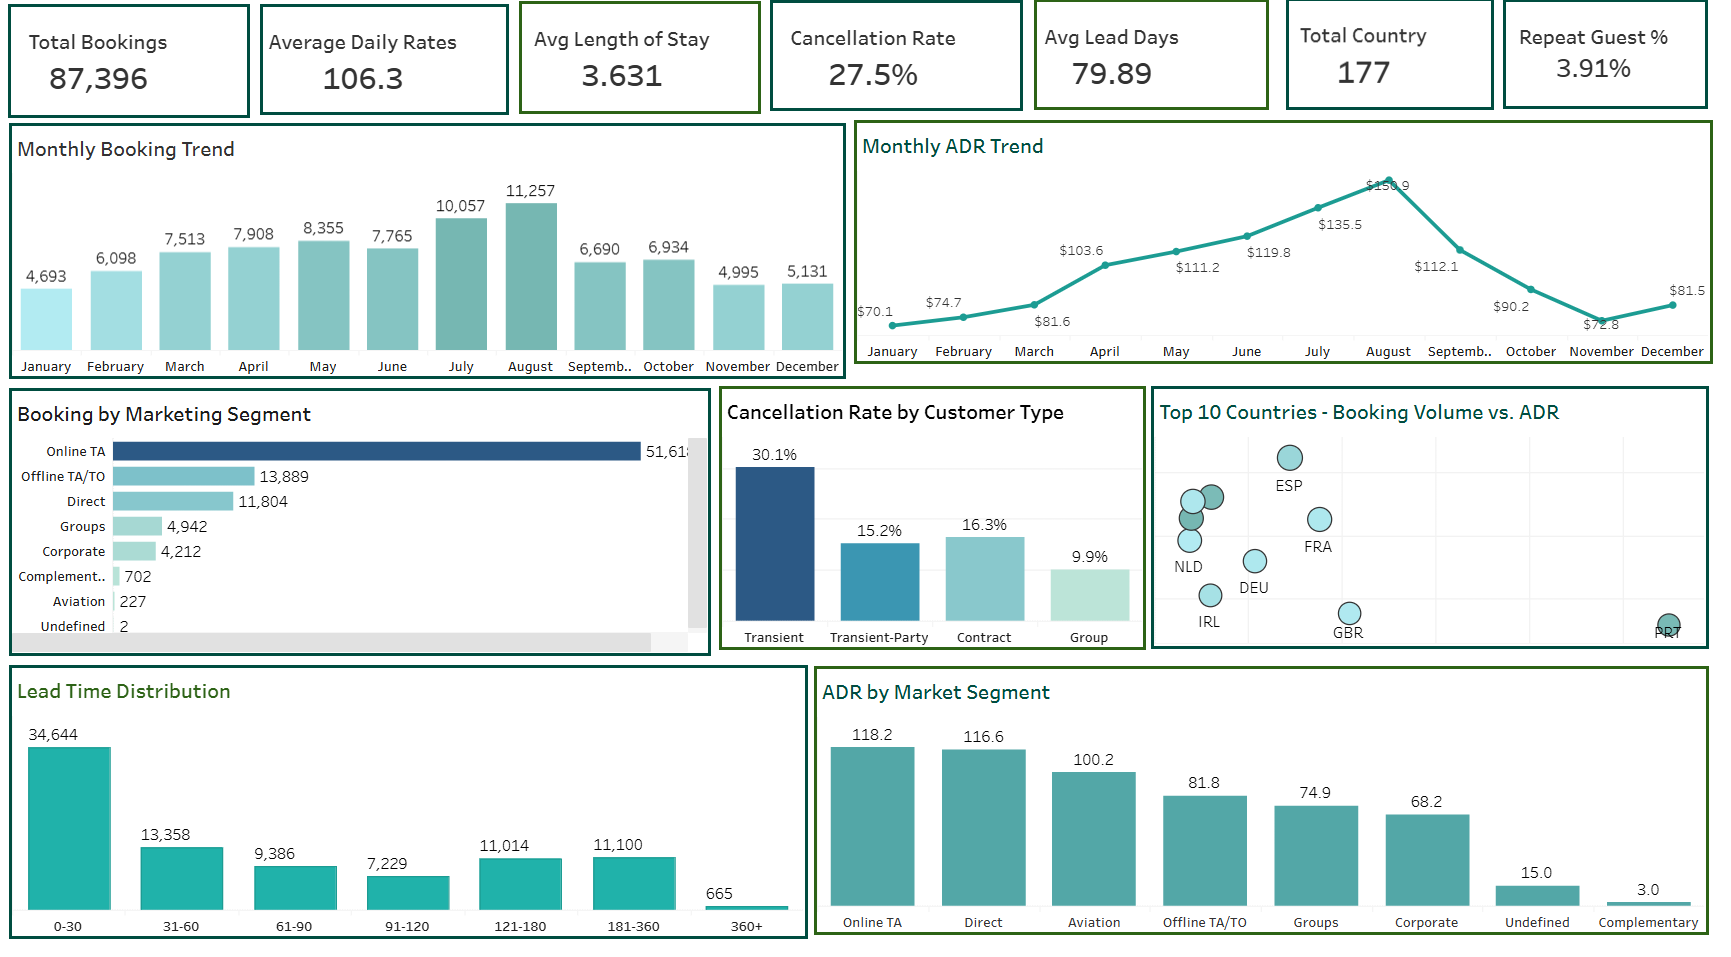

The page's visual inventory and layout, read from the dashboard file:
{"tool":"tableau","page":{"name":"Dashboard 1","canvas":[1000,1000],"units":"permille","ordinal":0},"visuals":[{"type":"title","box":[7.2,14.1,985.5,62.3]},{"type":"worksheet","title":"country cnt","mark":"Automatic","box":[674.1,69.3,108,106.9]},{"type":"worksheet","title":"avg lead time","mark":"Automatic","box":[546.2,70.5,122.5,105.8]},{"type":"worksheet","title":"repeat guest%","mark":"Automatic","box":[787,70.5,106.8,104.6]},{"type":"worksheet","title":"cancellation rate","mark":"Automatic","box":[408.6,71.7,131.6,105.8]},{"type":"worksheet","title":"avg length","mark":"Automatic","box":[278.2,72.9,126.1,108.1]},{"type":"worksheet","title":"total bookings","mark":"Automatic","box":[11.5,75.2,126.7,109.3]},{"type":"worksheet","title":"avg adr","mark":"Automatic","box":[143,75.2,129.8,106.9]},{"type":"worksheet","title":"monthly adr trend","mark":"Line","rows":["Calculation_0571230737088519"],"cols":["arrival_date_month"],"box":[452.6,186.8,443,245.6]},{"type":"worksheet","title":"monthly booking trend","mark":"Automatic","rows":["is_canceled"],"cols":["arrival_date_month"],"box":[12.1,189.2,436.3,244.4]},{"type":"worksheet","title":"booking chanle","mark":"Automatic","rows":["Calculation_0571230733795330"],"cols":["customer_type"],"box":[382,440.7,222.7,252.6]},{"type":"worksheet","title":"top countries","mark":"Circle","rows":["adr"],"cols":["is_canceled"],"box":[607.7,440.7,290.3,251.5]},{"type":"worksheet","title":"booking by marketing segment","mark":"Automatic","rows":["market_segment"],"cols":["is_canceled"],"box":[12.7,441.8,365.7,257.3]},{"type":"worksheet","title":"lead time distribution","mark":"Bar","rows":["is_canceled"],"cols":["Calculation_0571230802571277"],"box":[12.1,707.4,416.4,262]},{"type":"worksheet","title":"adr by market segment","mark":"Automatic","rows":["adr"],"cols":["market_segment"],"box":[431.5,708.6,466.5,257.3]}]}

Visuals, with their boxes on the dashboard's canvas, which has no fixed pixel size, in thousandths of its width and height (x1, y1, x2, y2). These are canvas units, not pixel positions in the 1731x957 screenshot, which may show the page scaled, cropped or inside an application window:
title: x1=7 y1=14 x2=993 y2=76
"country cnt" worksheet: x1=674 y1=69 x2=782 y2=176
"avg lead time" worksheet: x1=546 y1=70 x2=669 y2=176
"repeat guest%" worksheet: x1=787 y1=70 x2=894 y2=175
"cancellation rate" worksheet: x1=409 y1=72 x2=540 y2=178
"avg length" worksheet: x1=278 y1=73 x2=404 y2=181
"total bookings" worksheet: x1=12 y1=75 x2=138 y2=184
"avg adr" worksheet: x1=143 y1=75 x2=273 y2=182
"monthly adr trend" worksheet (Line marks): x1=453 y1=187 x2=896 y2=432
"monthly booking trend" worksheet: x1=12 y1=189 x2=448 y2=434
"booking chanle" worksheet: x1=382 y1=441 x2=605 y2=693
"top countries" worksheet (Circle marks): x1=608 y1=441 x2=898 y2=692
"booking by marketing segment" worksheet: x1=13 y1=442 x2=378 y2=699
"lead time distribution" worksheet (Bar marks): x1=12 y1=707 x2=428 y2=969
"adr by market segment" worksheet: x1=432 y1=709 x2=898 y2=966
